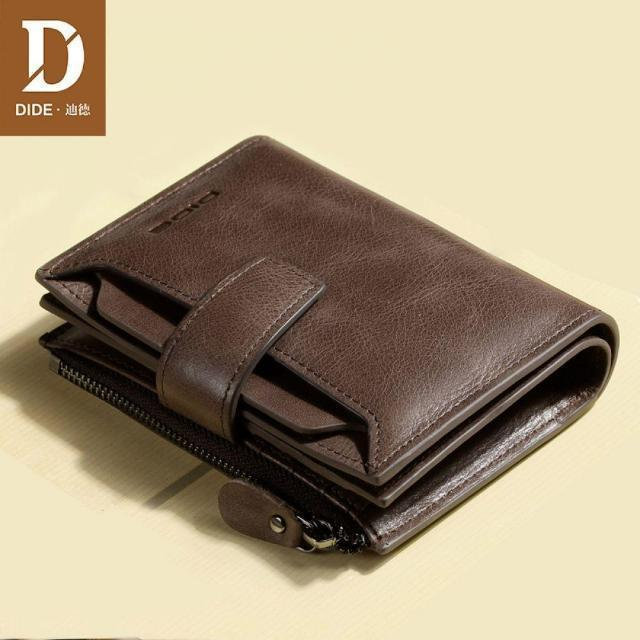cuzdan: (36, 120, 628, 581)
